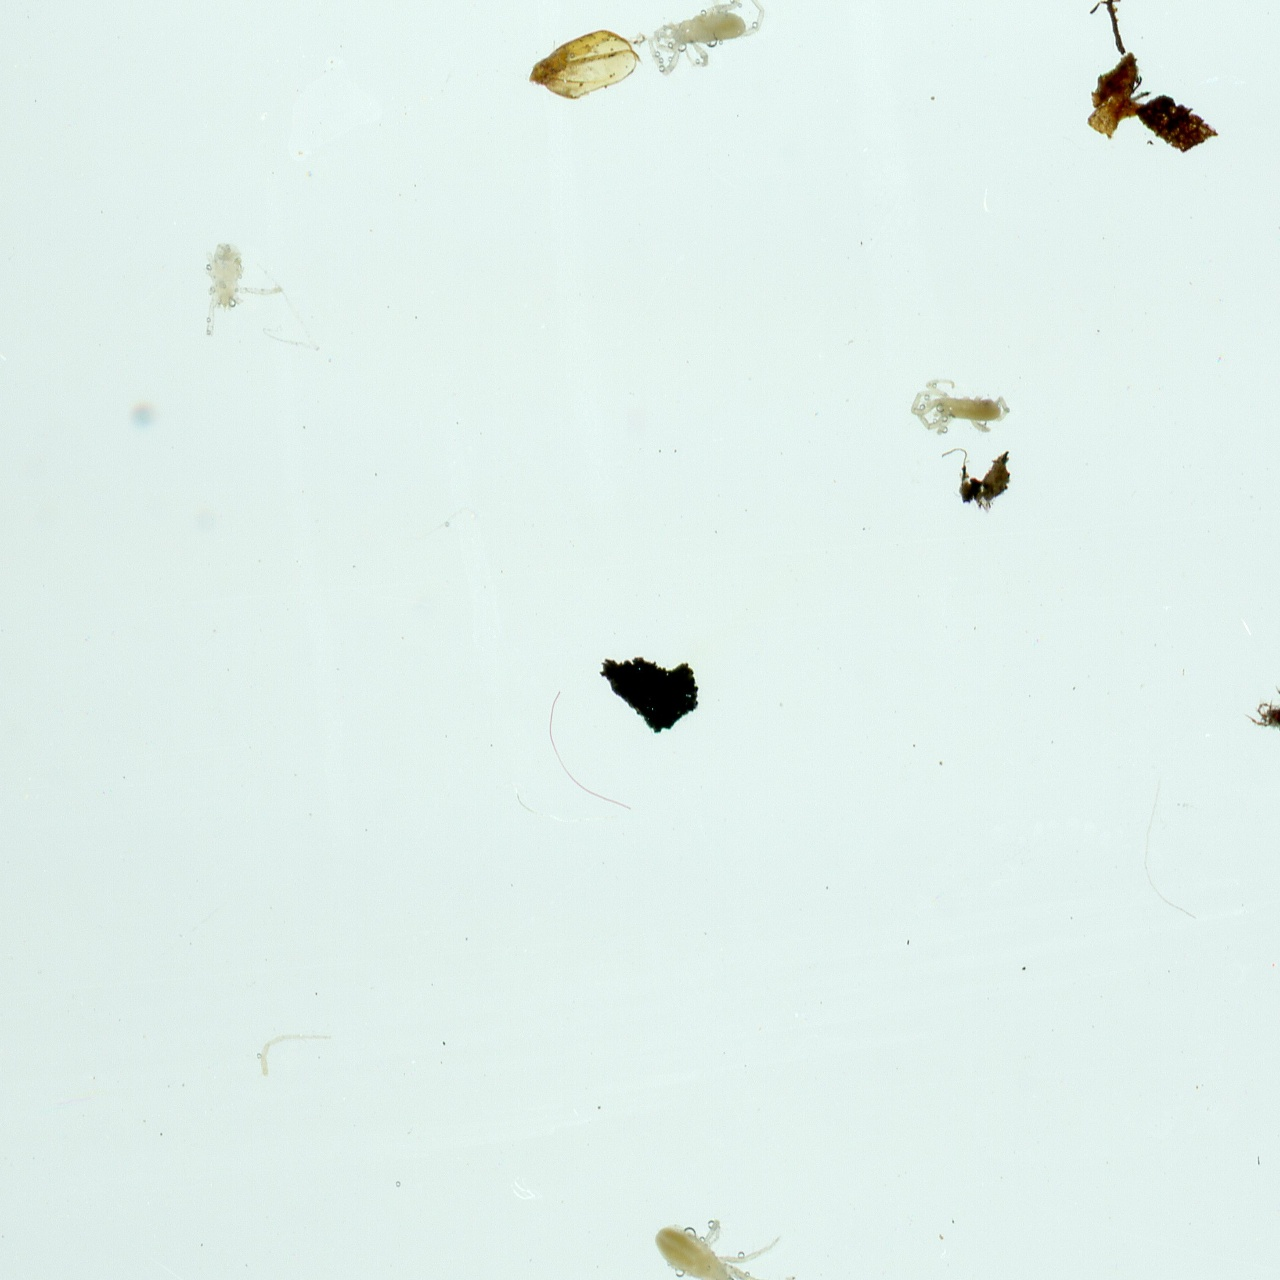arthropod: (630, 0, 796, 101), (642, 1209, 808, 1280), (193, 238, 292, 342), (908, 375, 1012, 437), (1240, 682, 1280, 740)
